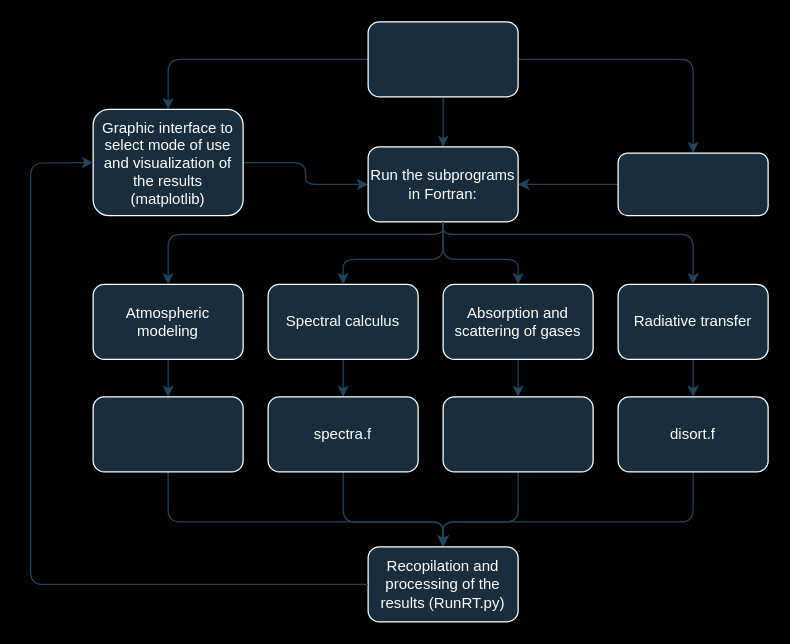
This 790x644 diagram has some shape labels left out. The shapes that lost their labels are listed below. From the top down, each one's centre as x and y in pixels, then its label:
At point (442, 59): "Initialization and configuration (RunRT.py)".
At point (692, 184): "Read the input file (INPUT)".
At point (167, 434): "atms.f taucloud.f tauaero.f".
At point (517, 434): "taugas.f".
